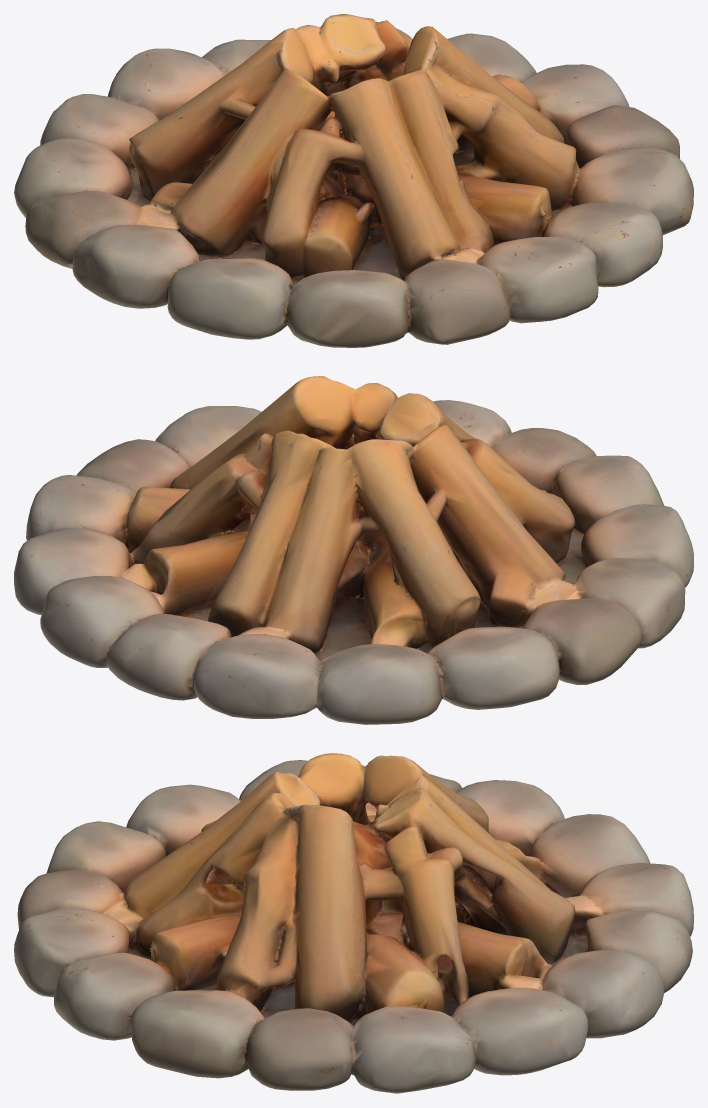
File: campfire.glb
3 views of the same model, one above another, from view 1: azimuth 30°, elevation 25°; view 2: azimuth 150°, elevation 25°; view 3: azimuth 270°, elevation 25° (orthographic).
Size of the model in its own units: 1.99 by 0.6164 by 2.
Materials: 1 (1 with a texture image).
